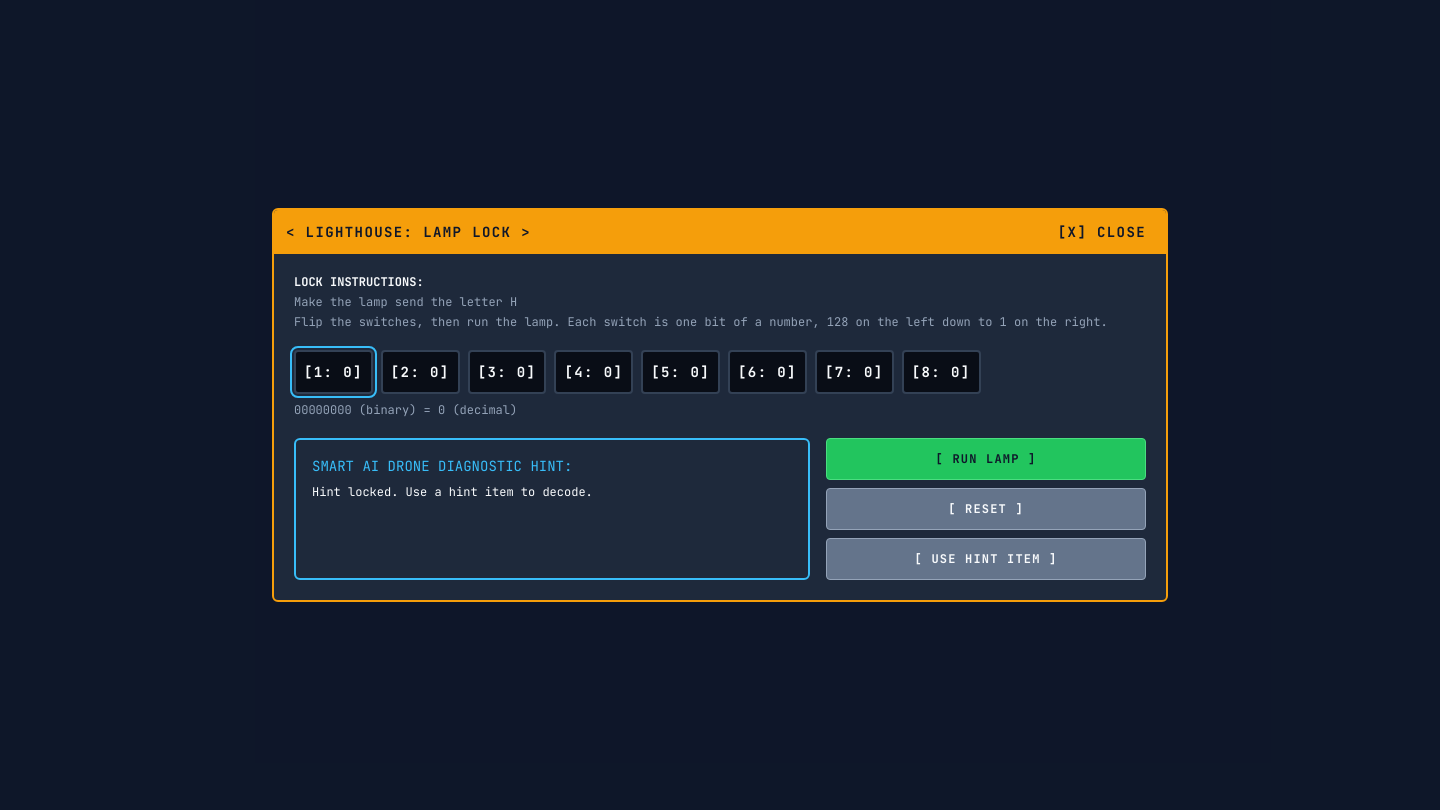
Test case: LampModal › toggles by click and keyboard, switch 1 being the 128 bit
This screenshot has width=1440, height=810.
Click the switch labelled "[2: 0]" at [420, 372], box [381,350,460,394]
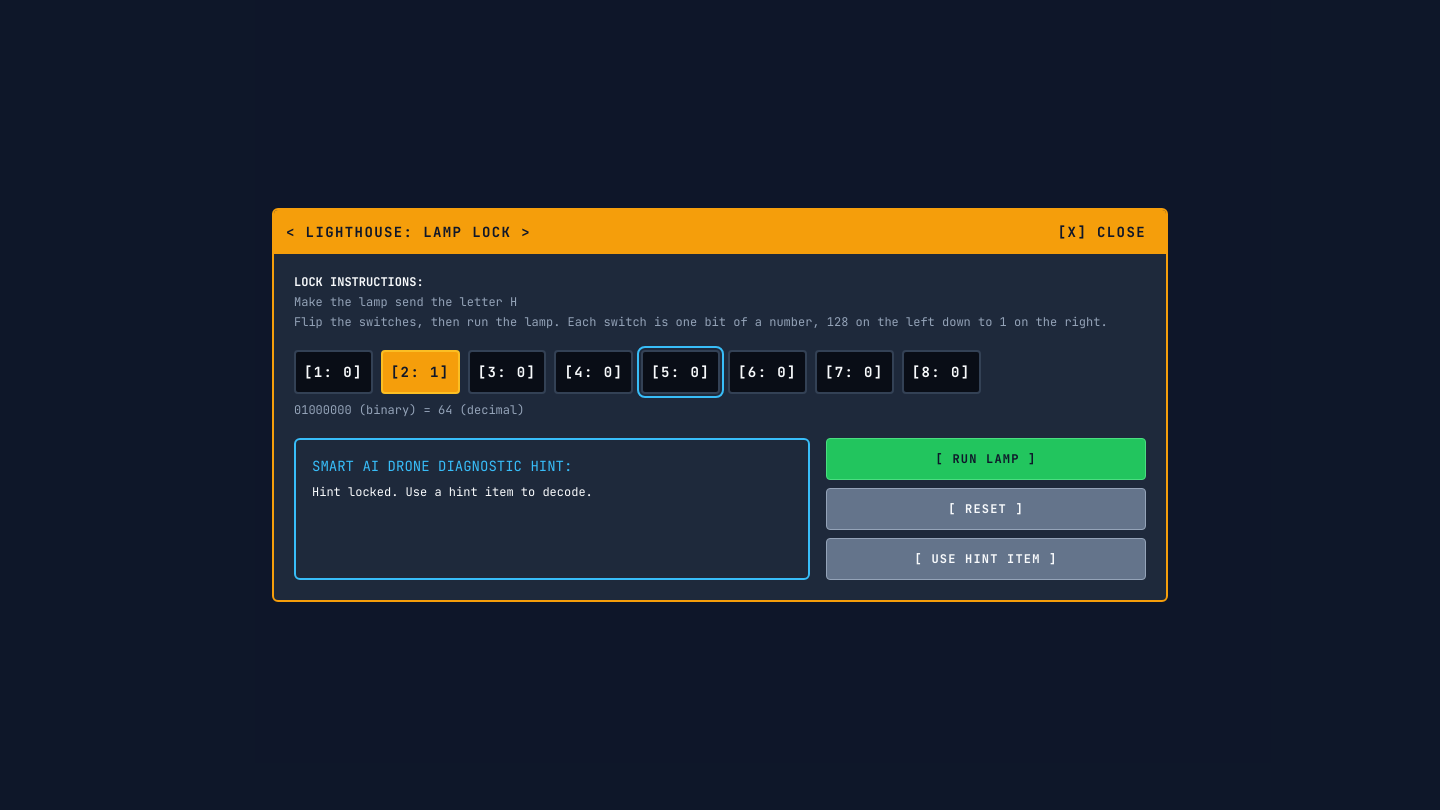
Type keys " "
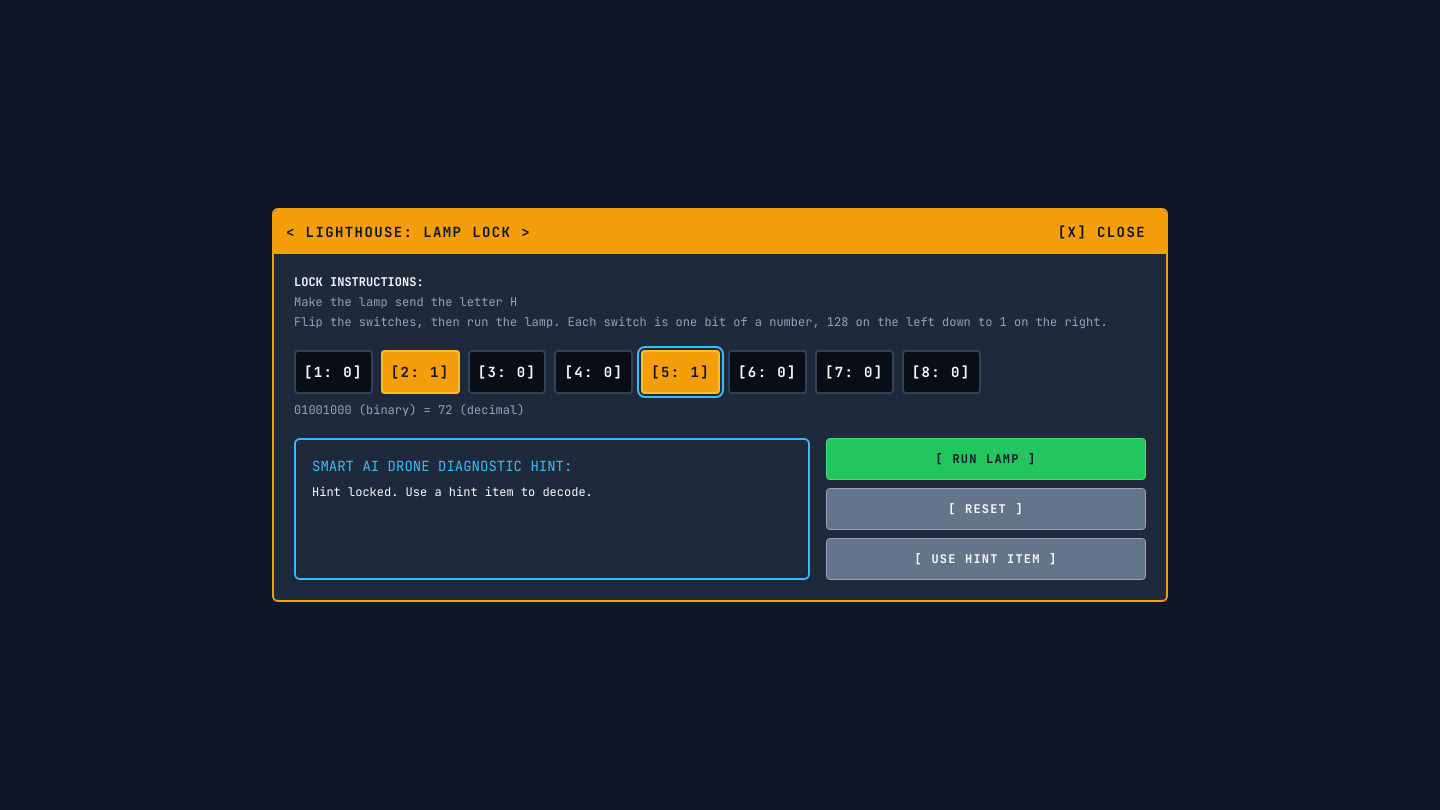
Now the text "01001000 (binary) = 72 (decimal)" is shown, box [294,402,524,418]
Click the switch labelled "[1: 0]" at [333, 372], box [294,350,373,394]
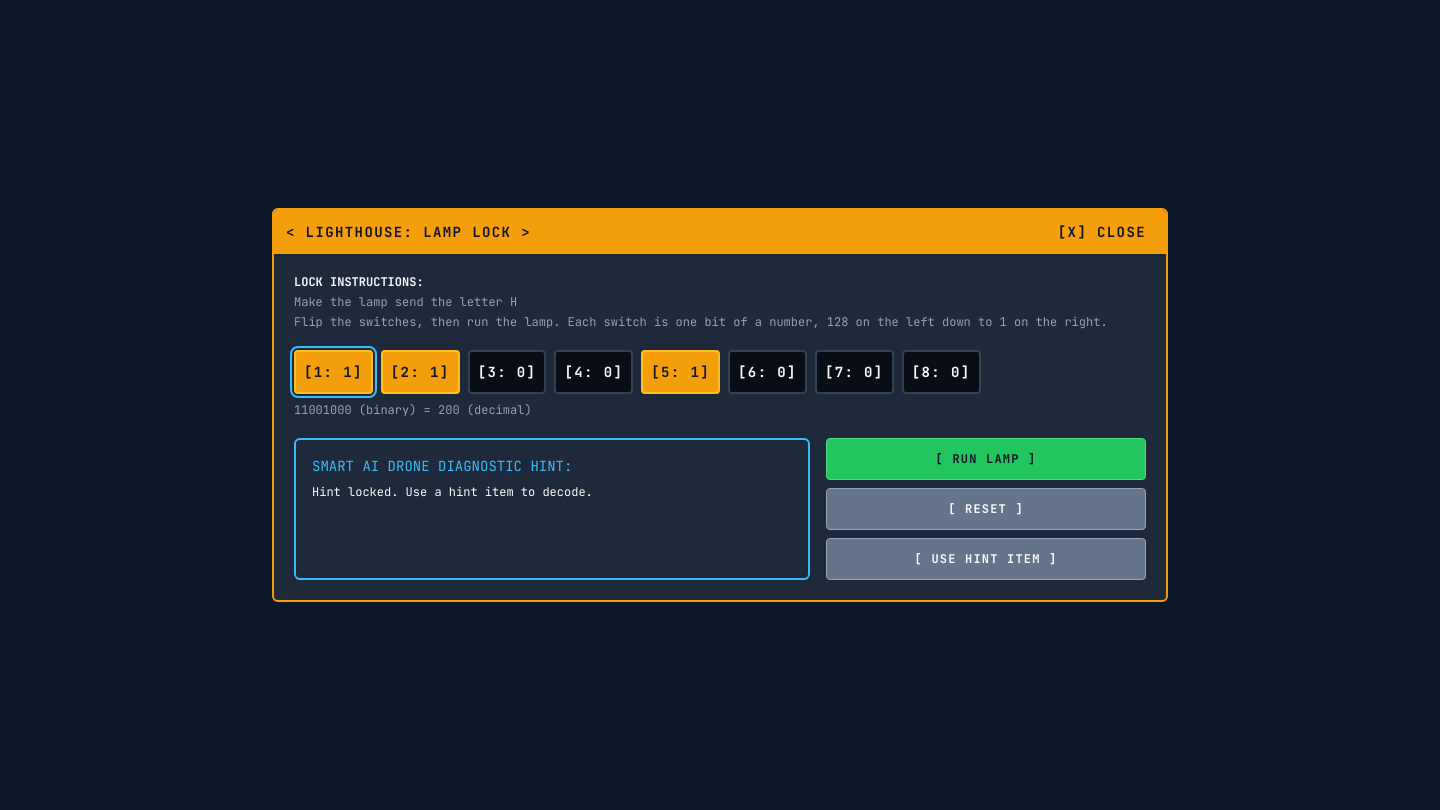
Now the text "11001000 (binary) = 200 (decimal)" is shown, box [294,402,532,418]
